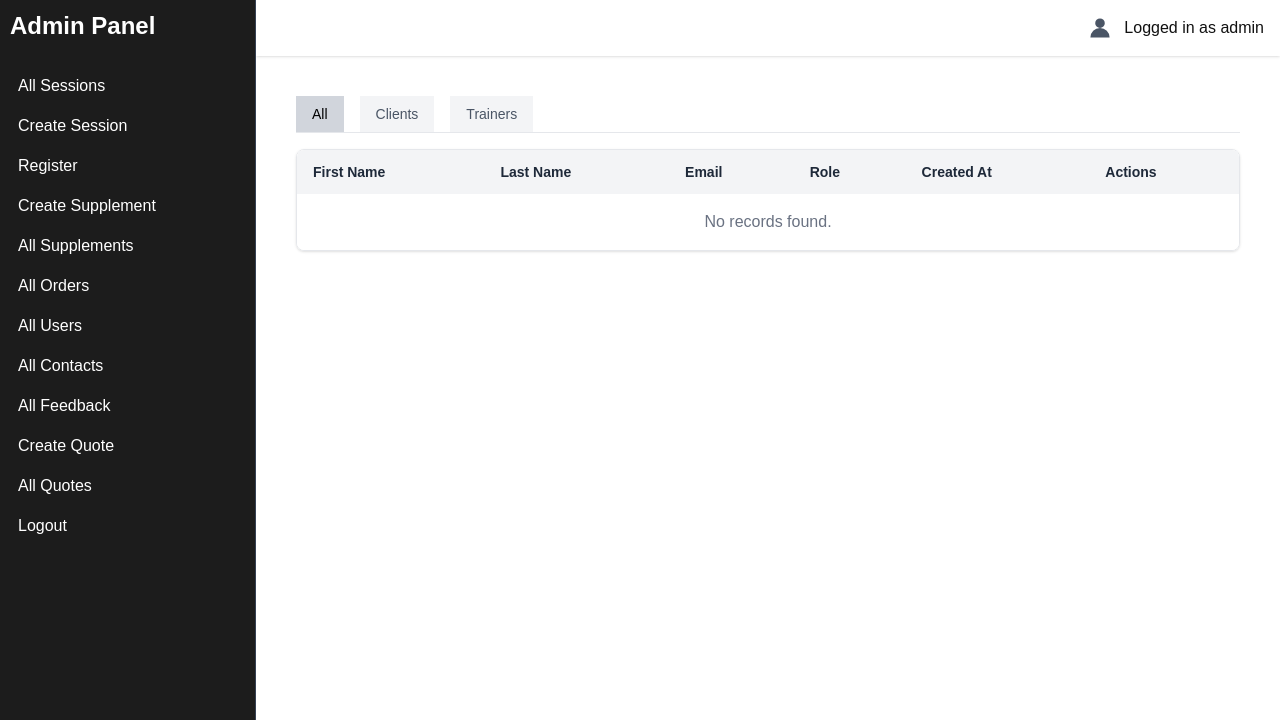
Test case: AllUsersPage - GET API › fetches Clients when Clients tab is clicked
Click the button "Clients": (397, 114) [360,96,434,132]
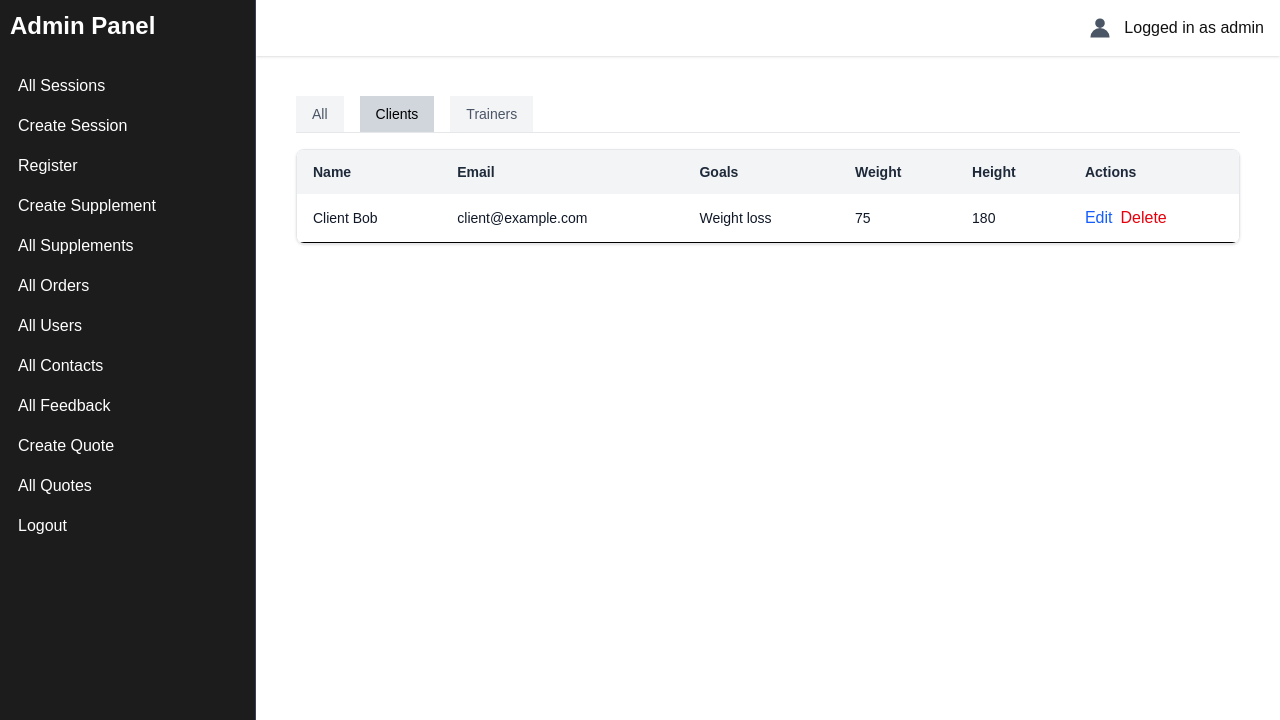
Check: the text "Client Bob" is shown, box [297,194,441,242]
Check: the text "client@example.com" is shown, box [441,194,684,242]
Check: the text "Weight loss" is shown, box [684,194,839,242]
